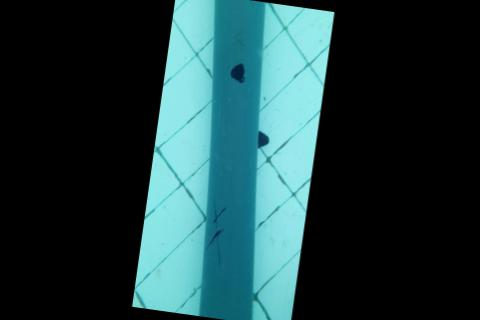kebocoran: (226, 60, 248, 85)
keretakan: (202, 198, 230, 265)
